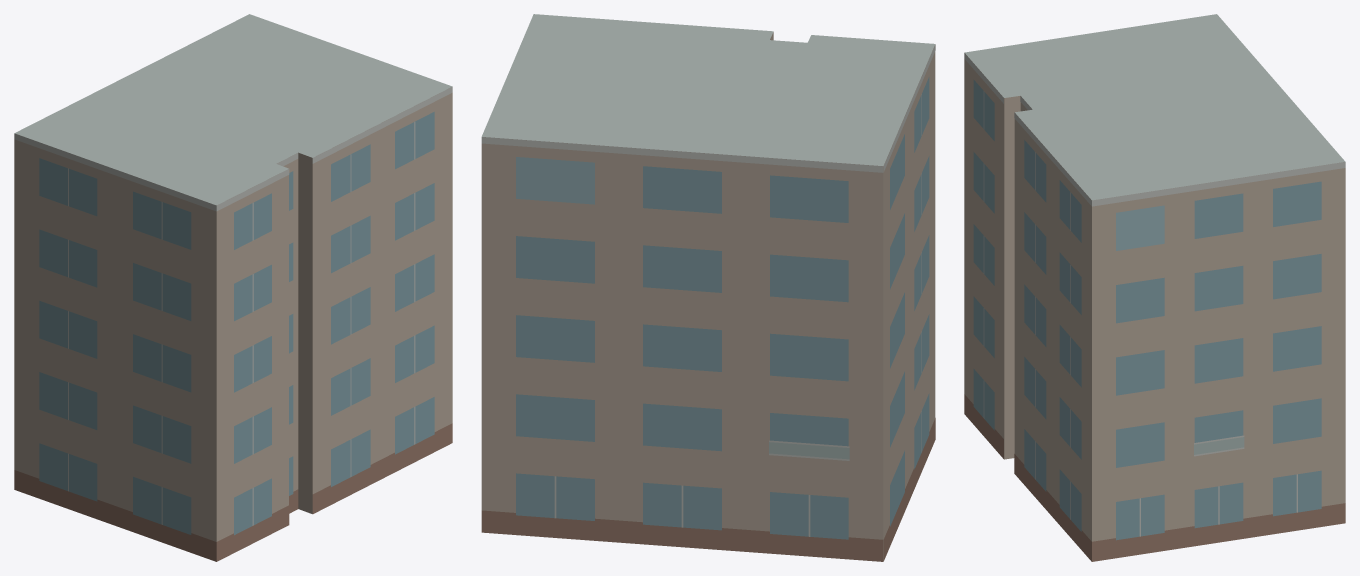
File: survey-upis-32941622.glb
The picture shows the model from 3 angles, left to right: view 1: azimuth 30°, elevation 25°; view 2: azimuth 150°, elevation 25°; view 3: azimuth 270°, elevation 25°; orthographic projection. The views are drawn at different scales.
Parts seen in each view (by area): view 1: survey-upis-32941622.tmp; view 2: survey-upis-32941622.tmp; view 3: survey-upis-32941622.tmp.
Boxes of the visible parts, <box> form: survey-upis-32941622.tmp: <box>14,14,452,561</box>; survey-upis-32941622.tmp: <box>481,14,935,561</box>; survey-upis-32941622.tmp: <box>964,14,1345,561</box>.
Size of the model in its own units: 15.94 by 14.4 by 13.77.
